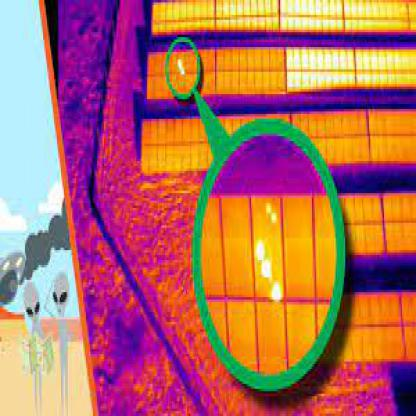Defects: (176, 54, 187, 77), (272, 280, 283, 302), (255, 238, 265, 260), (262, 260, 272, 277), (270, 210, 279, 228), (265, 200, 272, 210)
